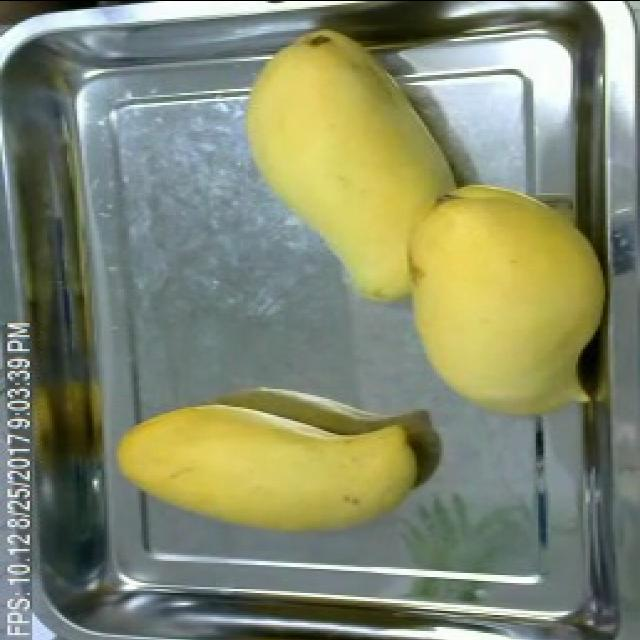fruit: (233, 14, 471, 320), (394, 166, 616, 432), (109, 388, 434, 544)
